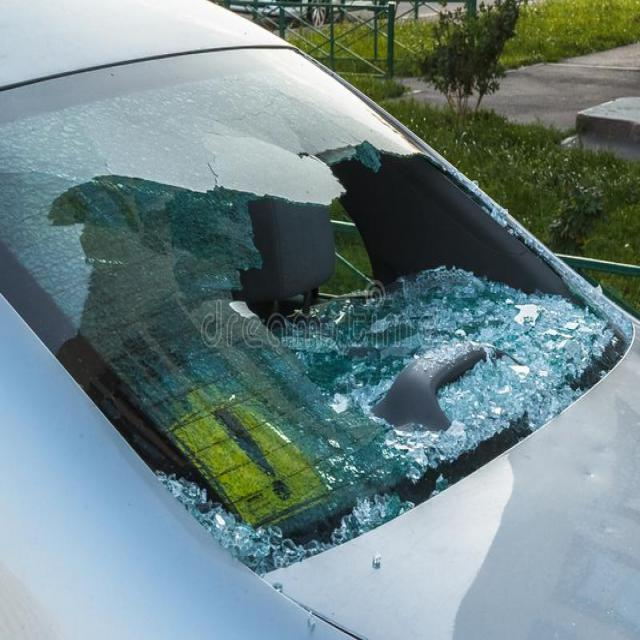Rear-windscreen-Damage: (0, 22, 639, 620)
